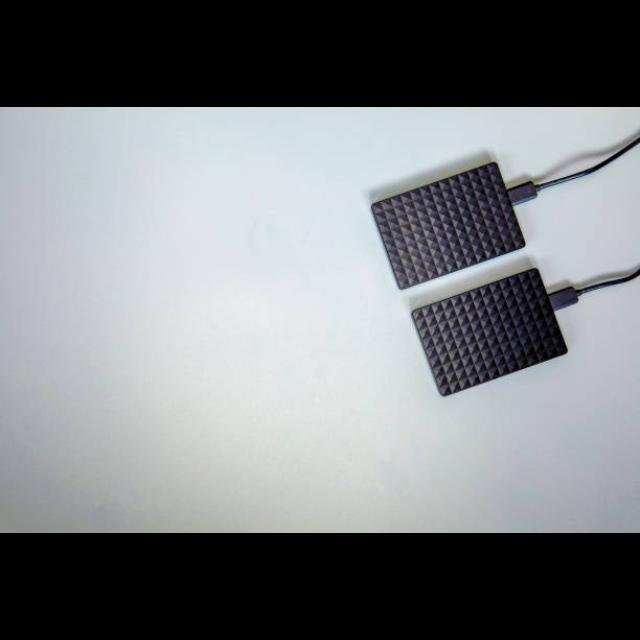HDD: (411, 269, 567, 399), (371, 162, 525, 290)
